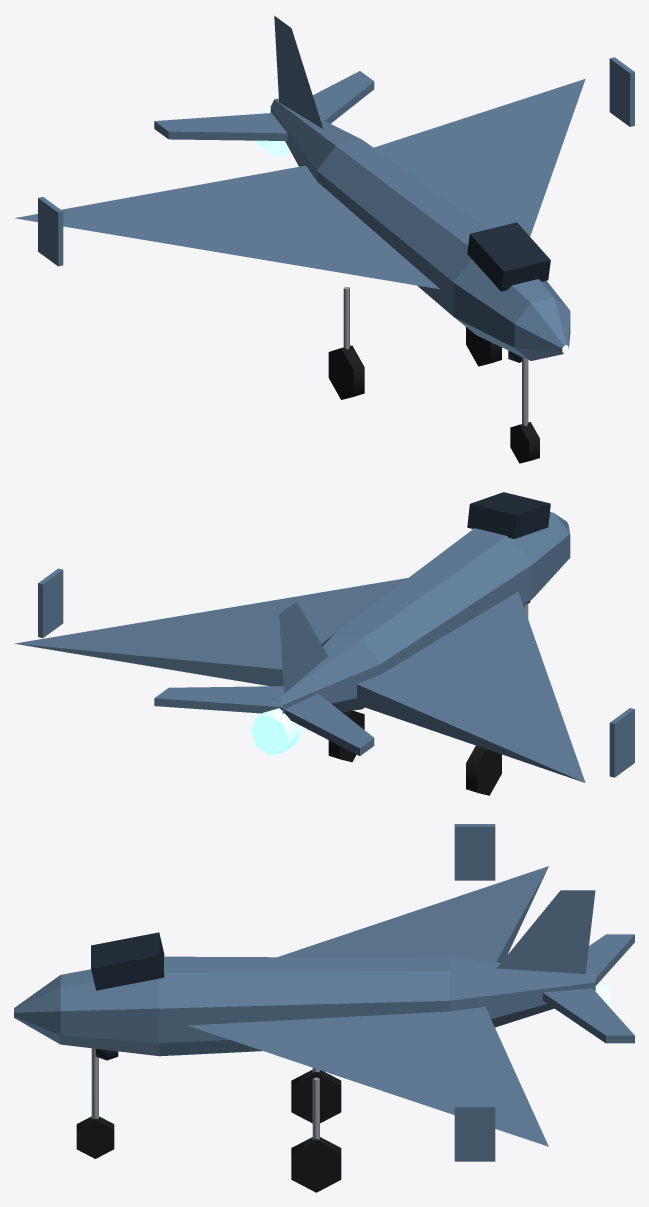
The model's file is veh_air_fighter_a10.glb.
The picture shows the model from 3 angles, top to bottom: view 1: azimuth 30°, elevation 25°; view 2: azimuth 150°, elevation 25°; view 3: azimuth 270°, elevation 25°; orthographic projection.
Parts seen in each view (by area): view 1: body, gear_1, gear_0, gear_2; view 2: body, gear_1, gear_2; view 3: body, gear_2, gear_1, gear_0.
Boxes of the visible parts, bbox=[...] form: body: bbox=[14, 16, 634, 362]; gear_1: bbox=[328, 287, 364, 399]; gear_0: bbox=[510, 357, 539, 463]; gear_2: bbox=[466, 327, 501, 366]; body: bbox=[15, 492, 634, 782]; gear_1: bbox=[466, 745, 501, 795]; gear_2: bbox=[328, 710, 364, 762]; body: bbox=[14, 824, 634, 1161]; gear_2: bbox=[291, 1077, 341, 1192]; gear_1: bbox=[291, 1068, 341, 1123]; gear_0: bbox=[76, 1048, 114, 1158].
Size of what is drawn, in the model's own units: 9.28 by 4.08 by 8.6.
